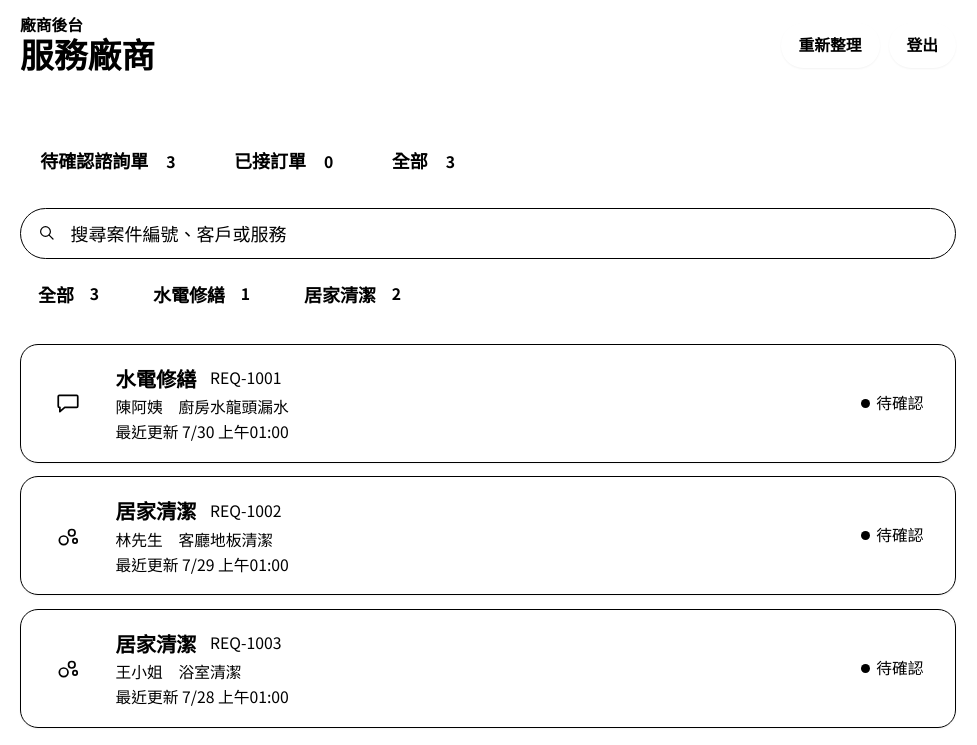
VendorRequestsPage 分類與搜尋 › filters the request list by search text across service, customer and request id
expect the text "REQ-1001" is shown: met, box [210,367,281,390]
Type "陳阿姨" into the search field labelled "搜尋案件編號、客戶或服務" at (488, 233), box [20,208,956,259]
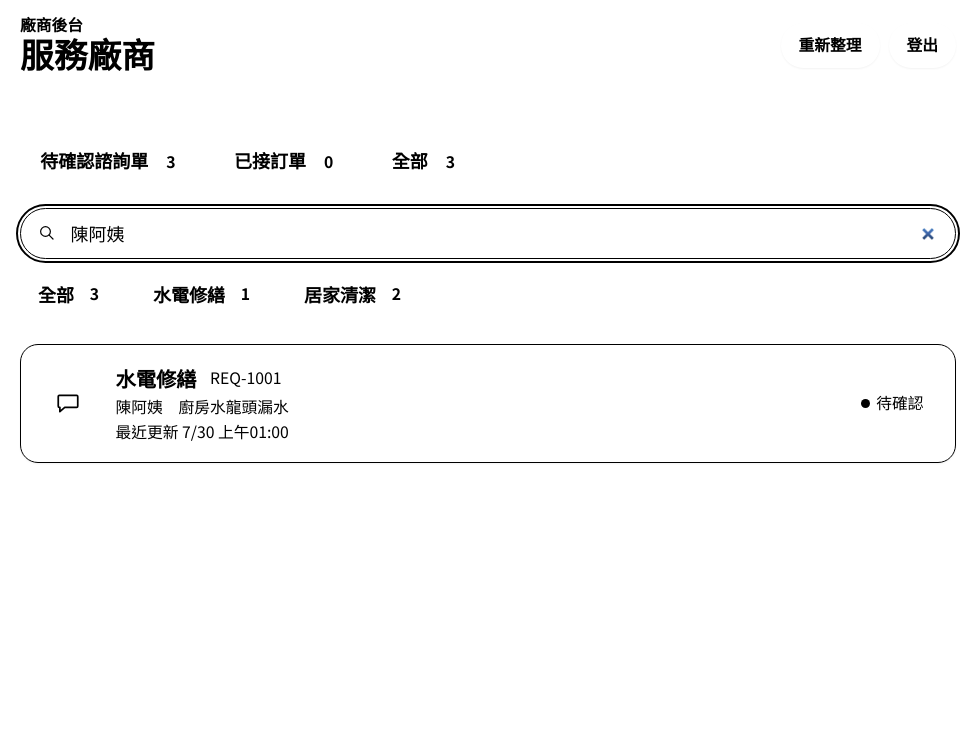
expect the text "REQ-1001" is shown: met, box [210,367,281,390]
expect the link "REQ-1002" is gone: met
